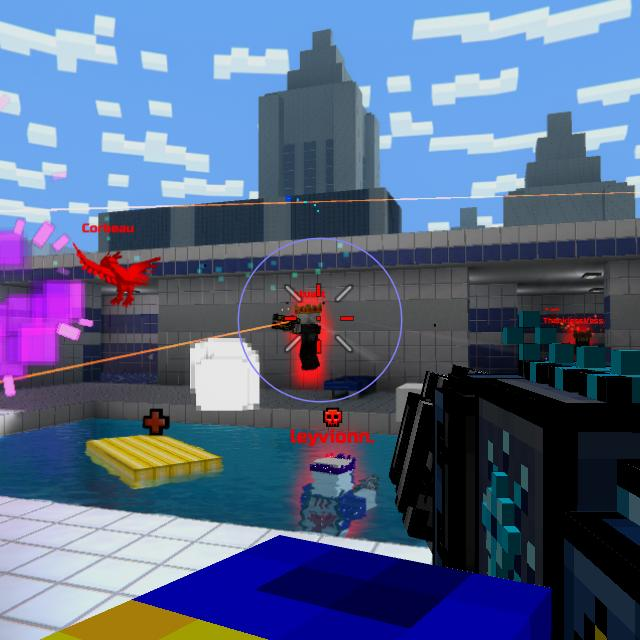Enemy: (302, 452, 372, 537), (288, 306, 321, 372), (570, 332, 592, 348)
